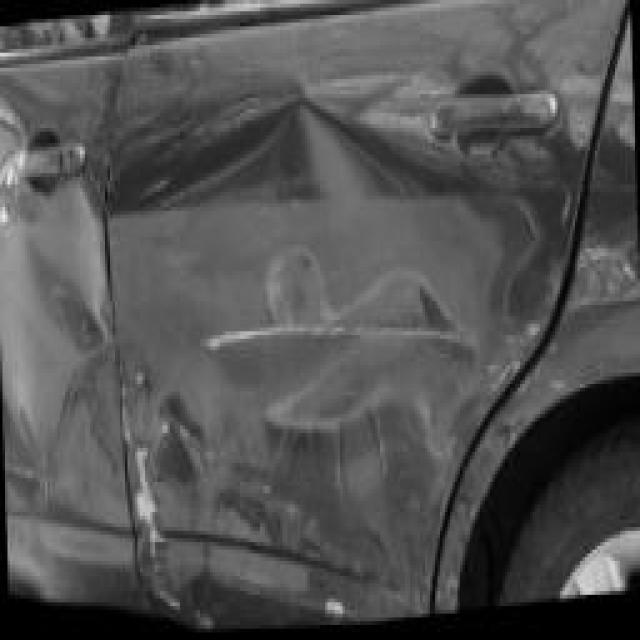Door: (0, 68, 582, 581)
